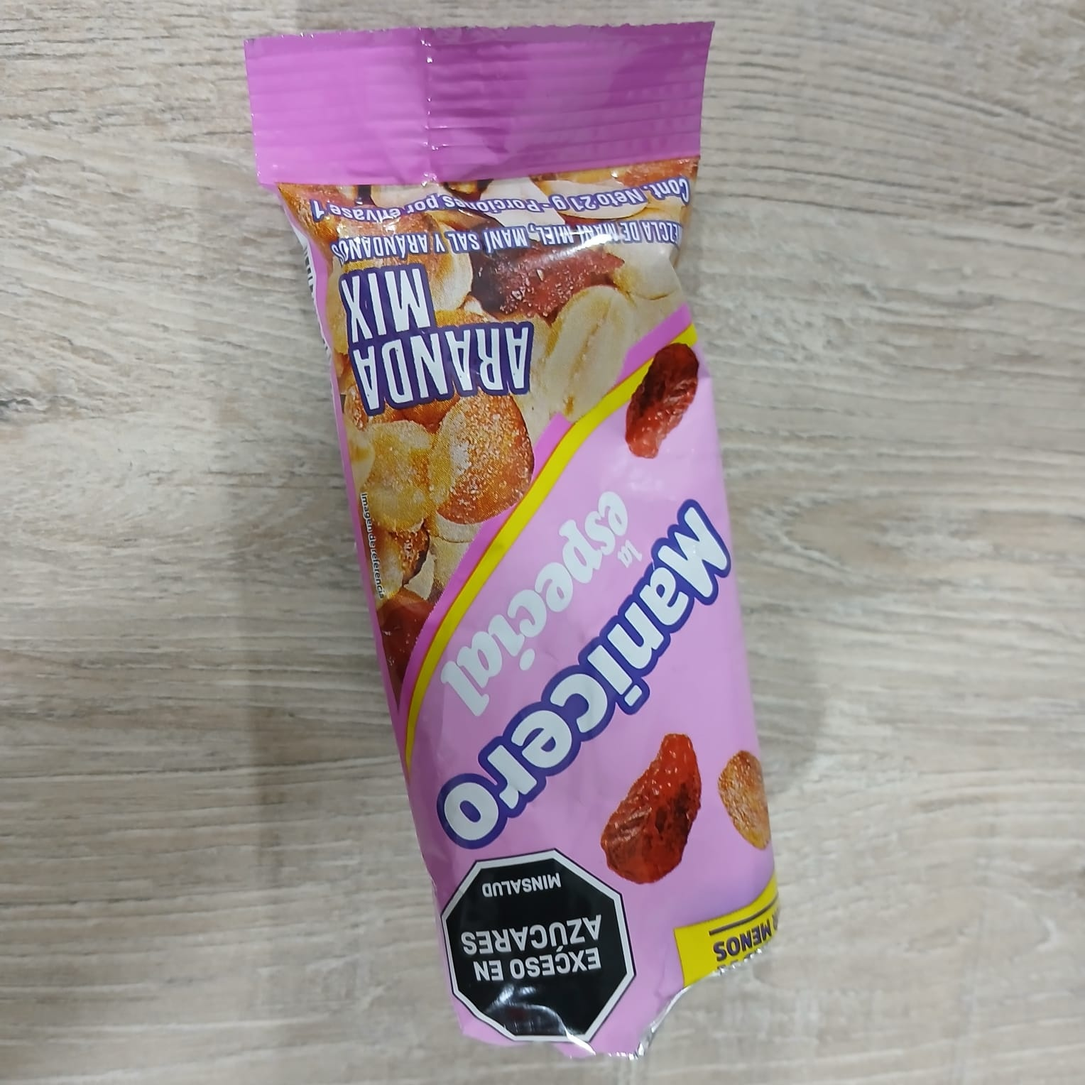Ordinario: (247, 21, 779, 1065)
